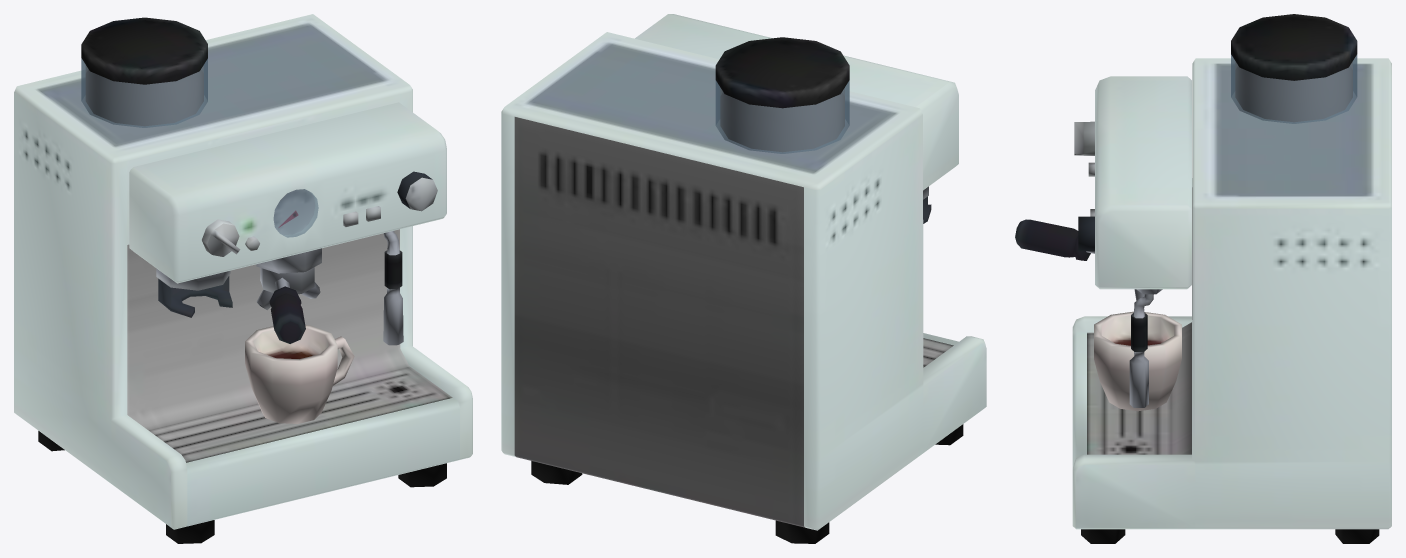
3 views of the same model, side by side, from view 1: azimuth 30°, elevation 25°; view 2: azimuth 150°, elevation 25°; view 3: azimuth 270°, elevation 25° (orthographic). The views are drawn at different scales.
Bounding box in the file's own units: 7.28 × 9.4 × 7.9.
4 materials, 3 textured.
